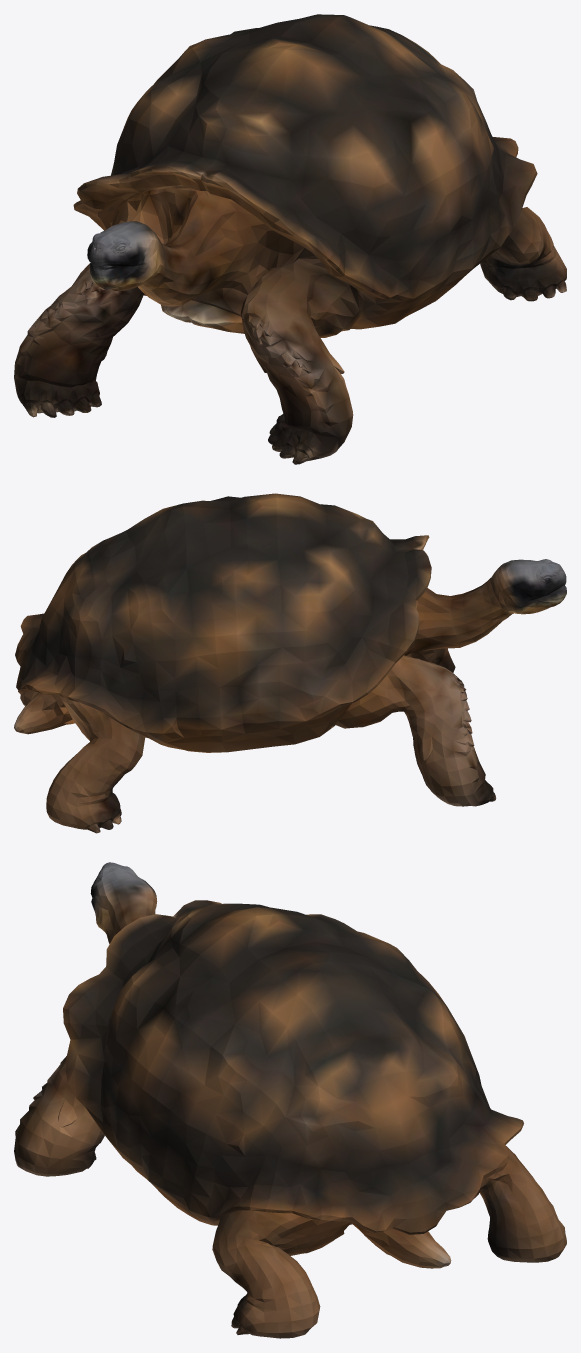
The model's file is tortoise.mesh.glb.
3 views of the same model, one above another, from view 1: azimuth 30°, elevation 25°; view 2: azimuth 150°, elevation 25°; view 3: azimuth 270°, elevation 25° (orthographic). The views are drawn at different scales.
Visible parts, largest first — view 1: root; view 2: root; view 3: root.
Boxes of the visible parts, x1,y1,x2,y2 form: root: (14,14,566,464); root: (14,493,566,833); root: (14,862,566,1338).
Bounding box in the file's own units: 0.5773 × 0.3014 × 0.5146.
1 material, 1 textured.
